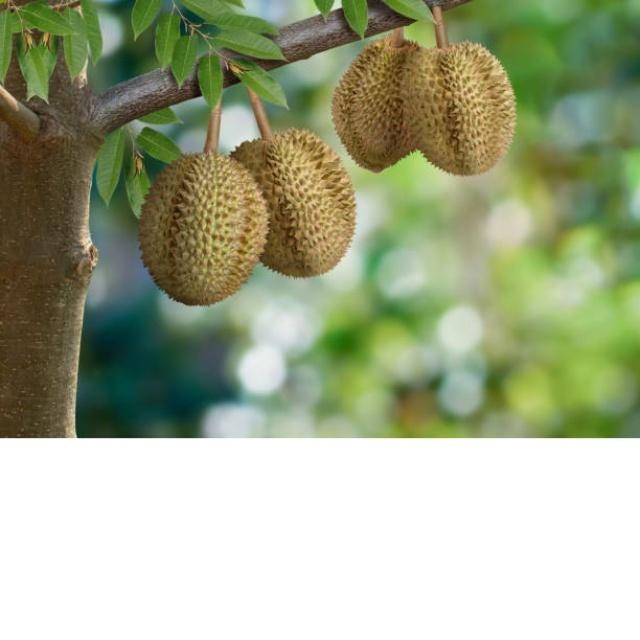sau_rieng: (235, 119, 354, 292), (135, 149, 265, 301), (408, 36, 526, 179), (328, 29, 422, 180)
